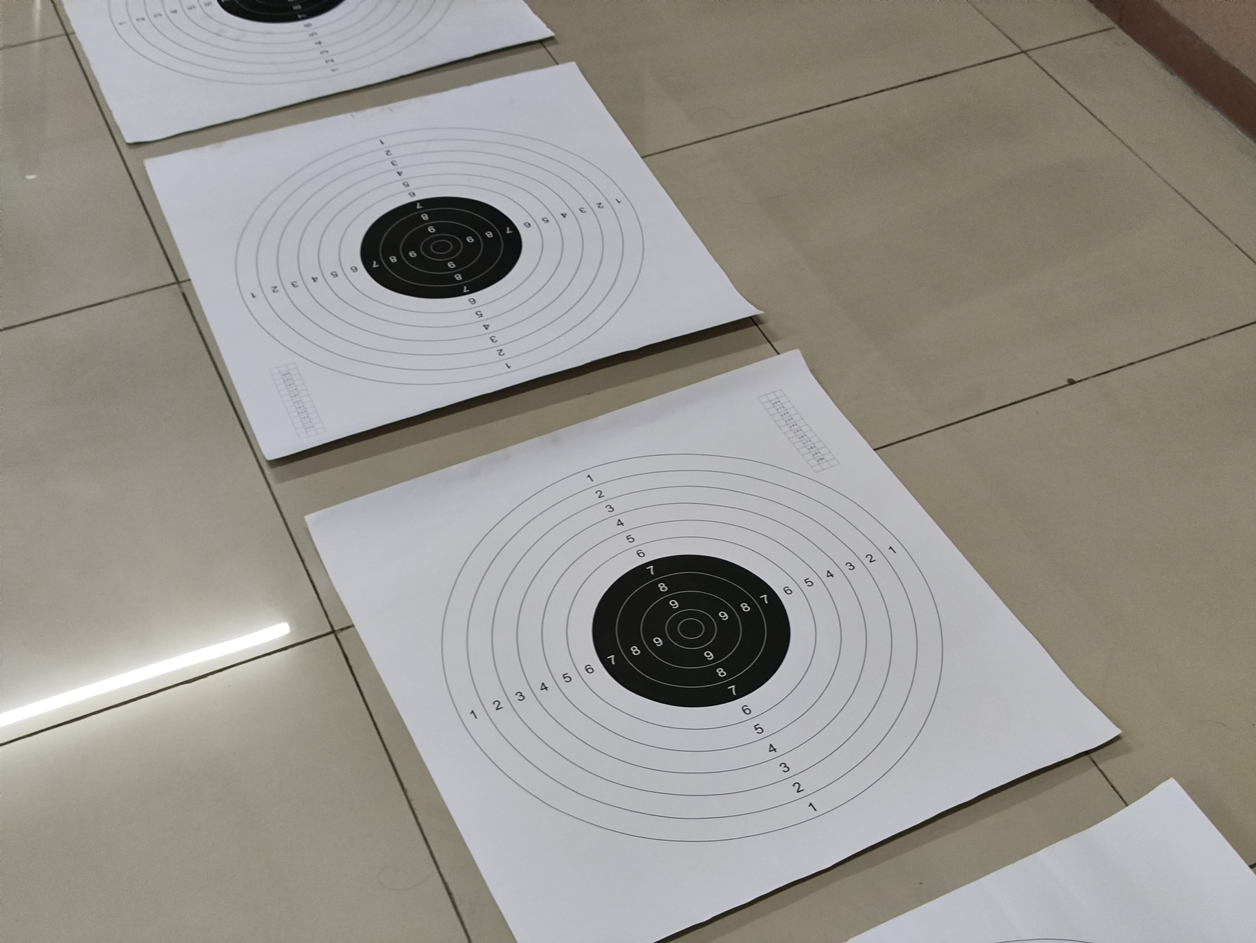target: (421, 418, 989, 866), (204, 109, 674, 413)
